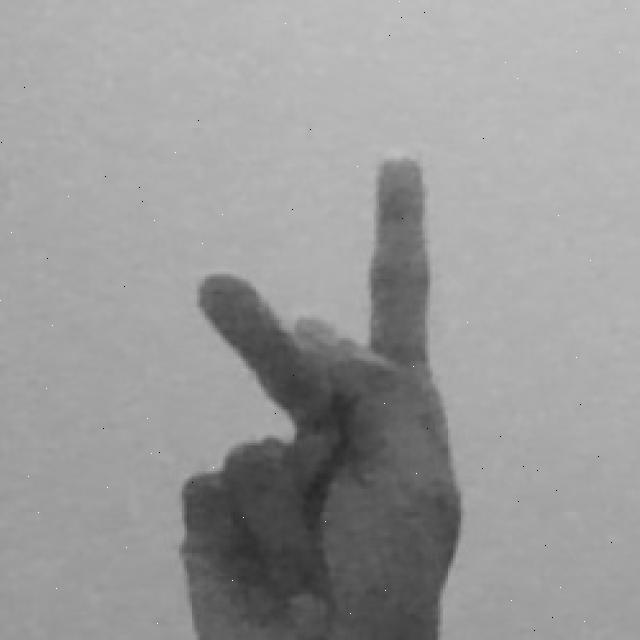K: (171, 153, 478, 640)
